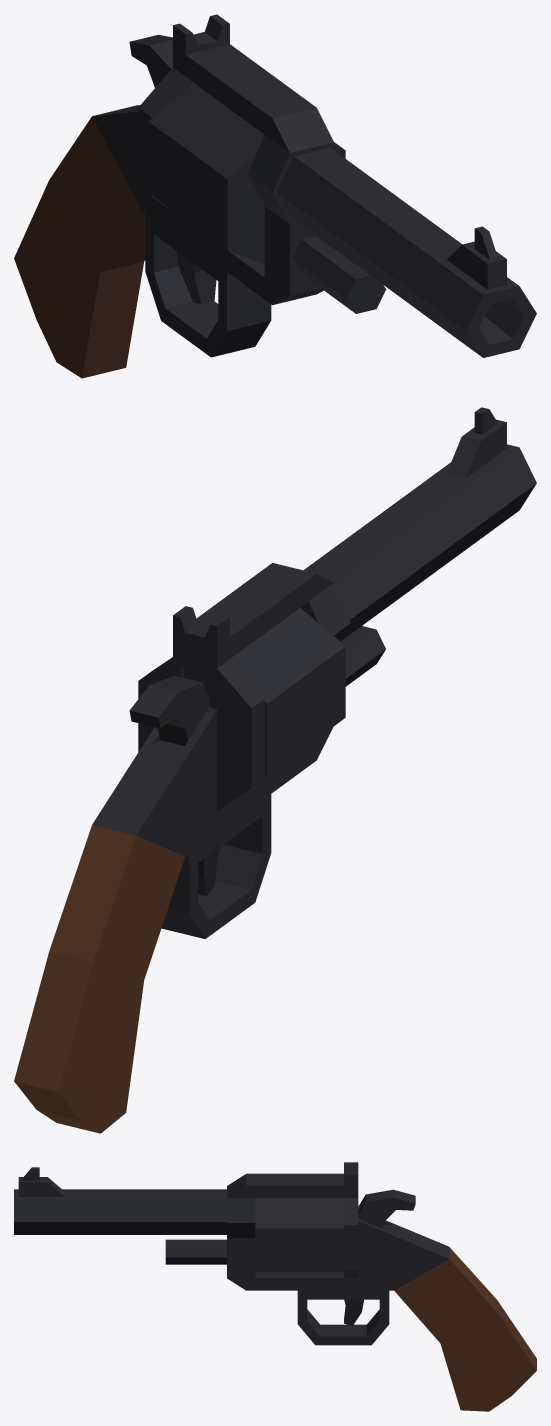
File: LPWarPack_Revolver.fbx
3 renders of one model, top to bottom at view 1: azimuth 30°, elevation 25°; view 2: azimuth 150°, elevation 25°; view 3: azimuth 270°, elevation 25°, orthographic. The views are drawn at different scales.
Visible parts, largest first — view 1: Revolver; view 2: Revolver; view 3: Revolver.
Part boxes in pixels (x1=…): Revolver: x1=14, y1=14, x2=536, y2=378; Revolver: x1=14, y1=407, x2=536, y2=1133; Revolver: x1=14, y1=1162, x2=536, y2=1411.
Size of the model in its own units: 4.77 by 16.28 by 32.51.
